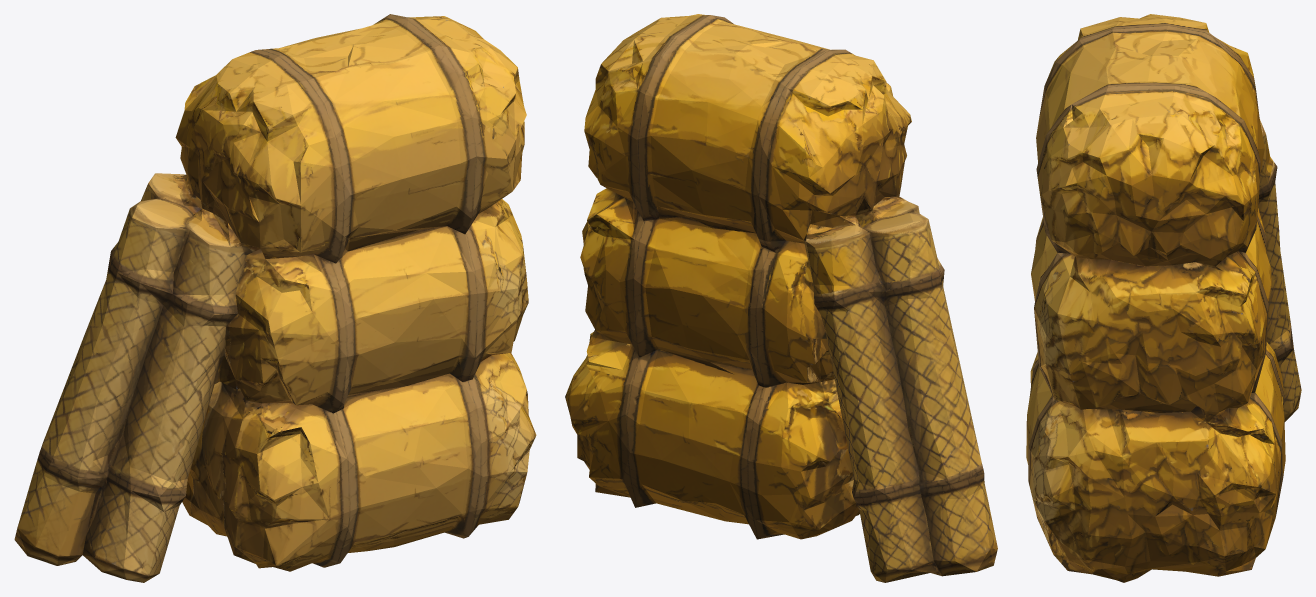
Rendered from straw.glb.
3 views of the same model, side by side, from view 1: azimuth 30°, elevation 25°; view 2: azimuth 150°, elevation 25°; view 3: azimuth 270°, elevation 25° (orthographic). The views are drawn at different scales.
Visible parts, largest first — view 1: low; view 2: low; view 3: low.
Boxes of the visible parts, <box> form: low: <box>14,14,536,582</box>; low: <box>565,14,997,582</box>; low: <box>1026,14,1301,582</box>.
Size of the model in its own units: 0.9652 by 1 by 0.5216.
Materials: 1 (1 with a texture image).
